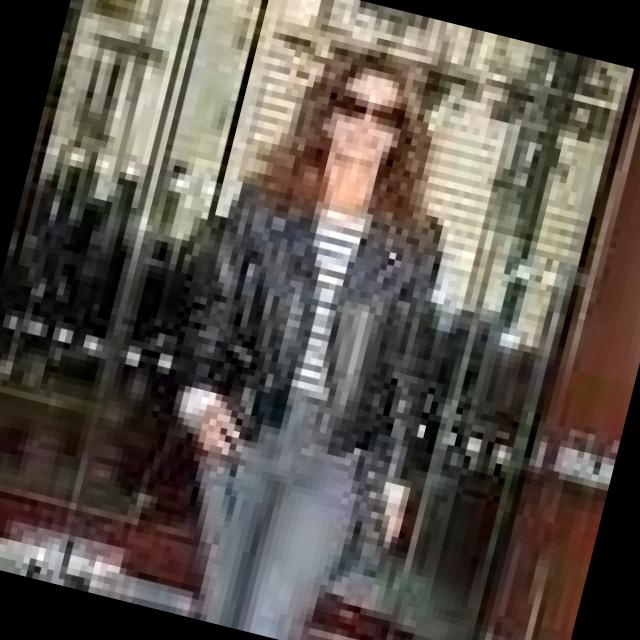Jacket: (150, 152, 482, 516)
